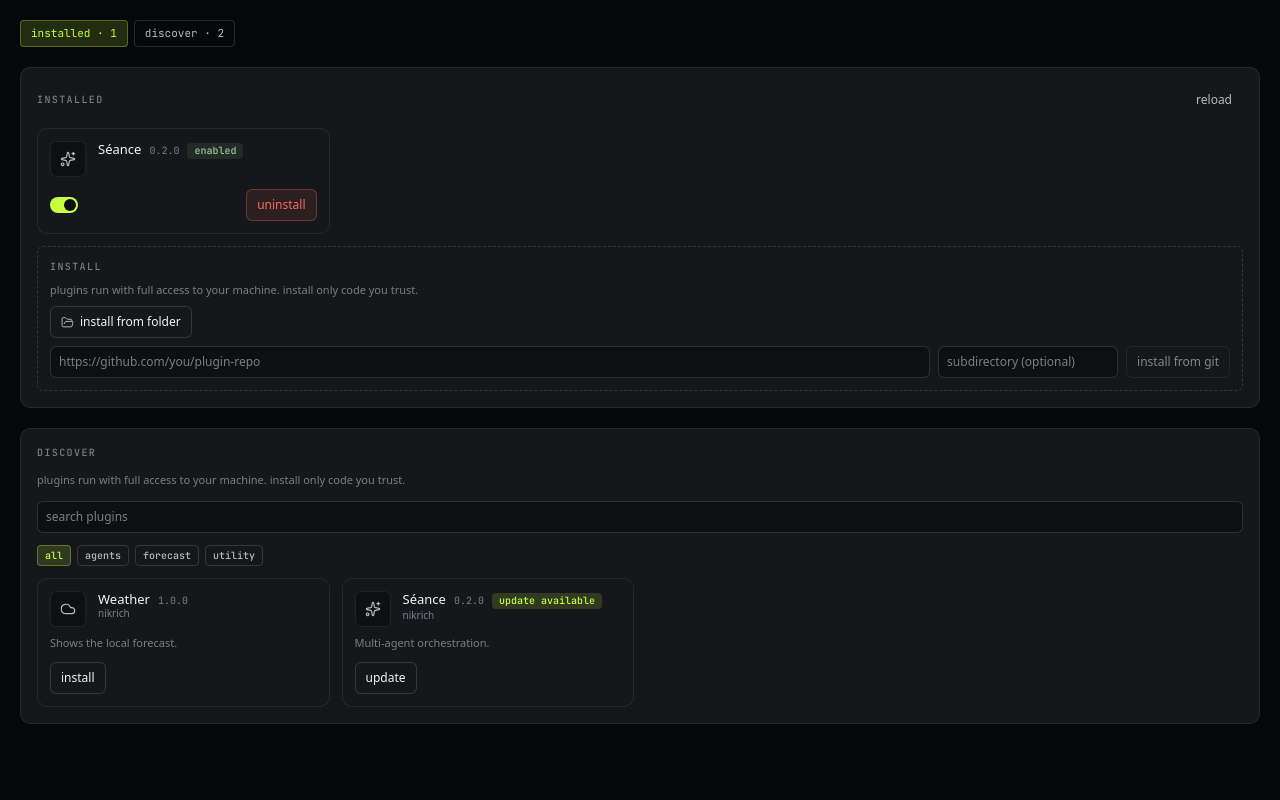
Test: PluginsScreen detail view › clicking a marketplace plugin card opens a detail view with full metadata
Check: the text "Weather" is shown, box [98,590,150,607]
Click the button "Weather": click(68, 608) [37,578,330,707]
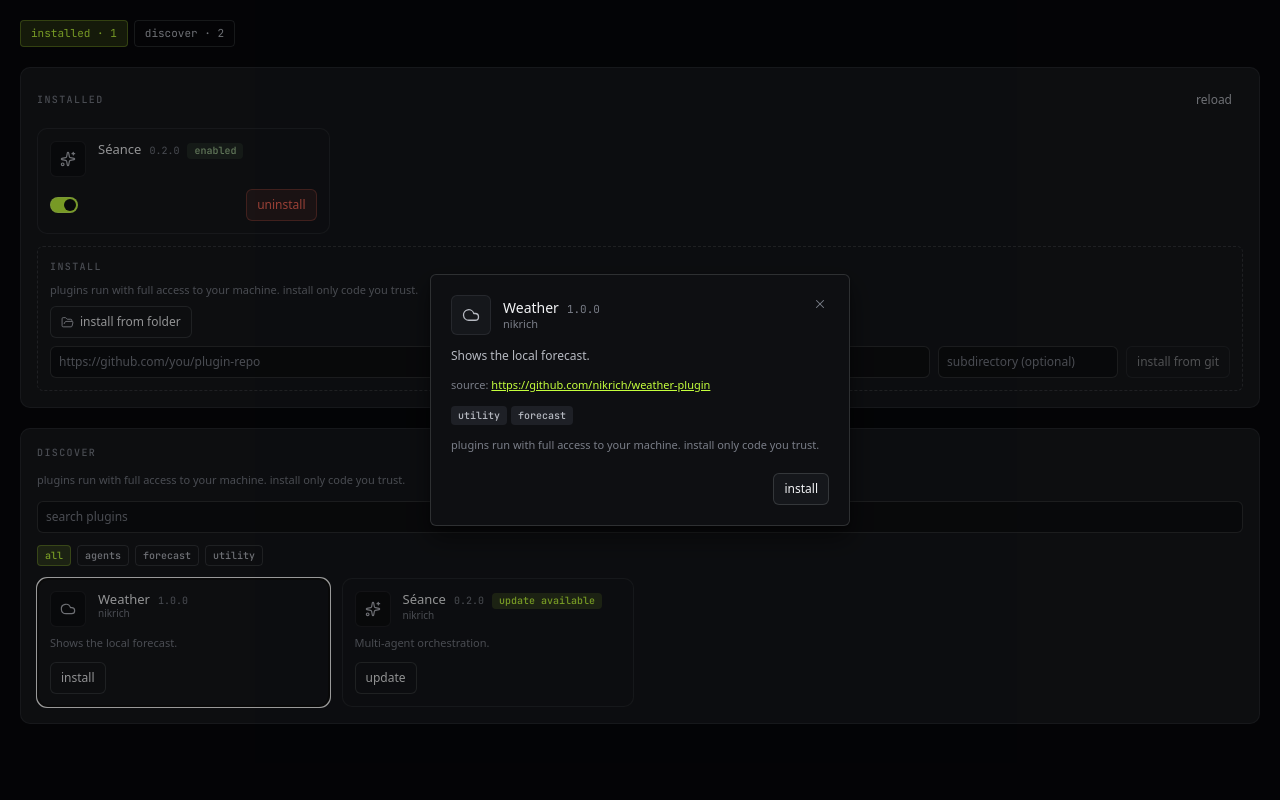
Check: the text "Shows the local forecast." is shown, box [451,347,590,364]
Check: the text "nikrich" is shown, box [503,316,538,331]
Check: the text "utility" is shown, box [451,406,507,424]
